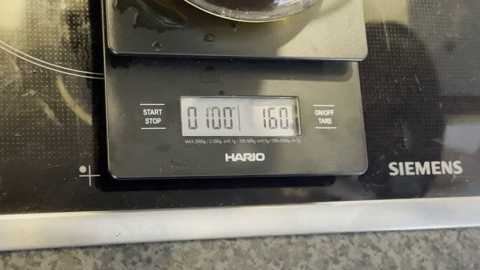display: (180, 96, 299, 135)
